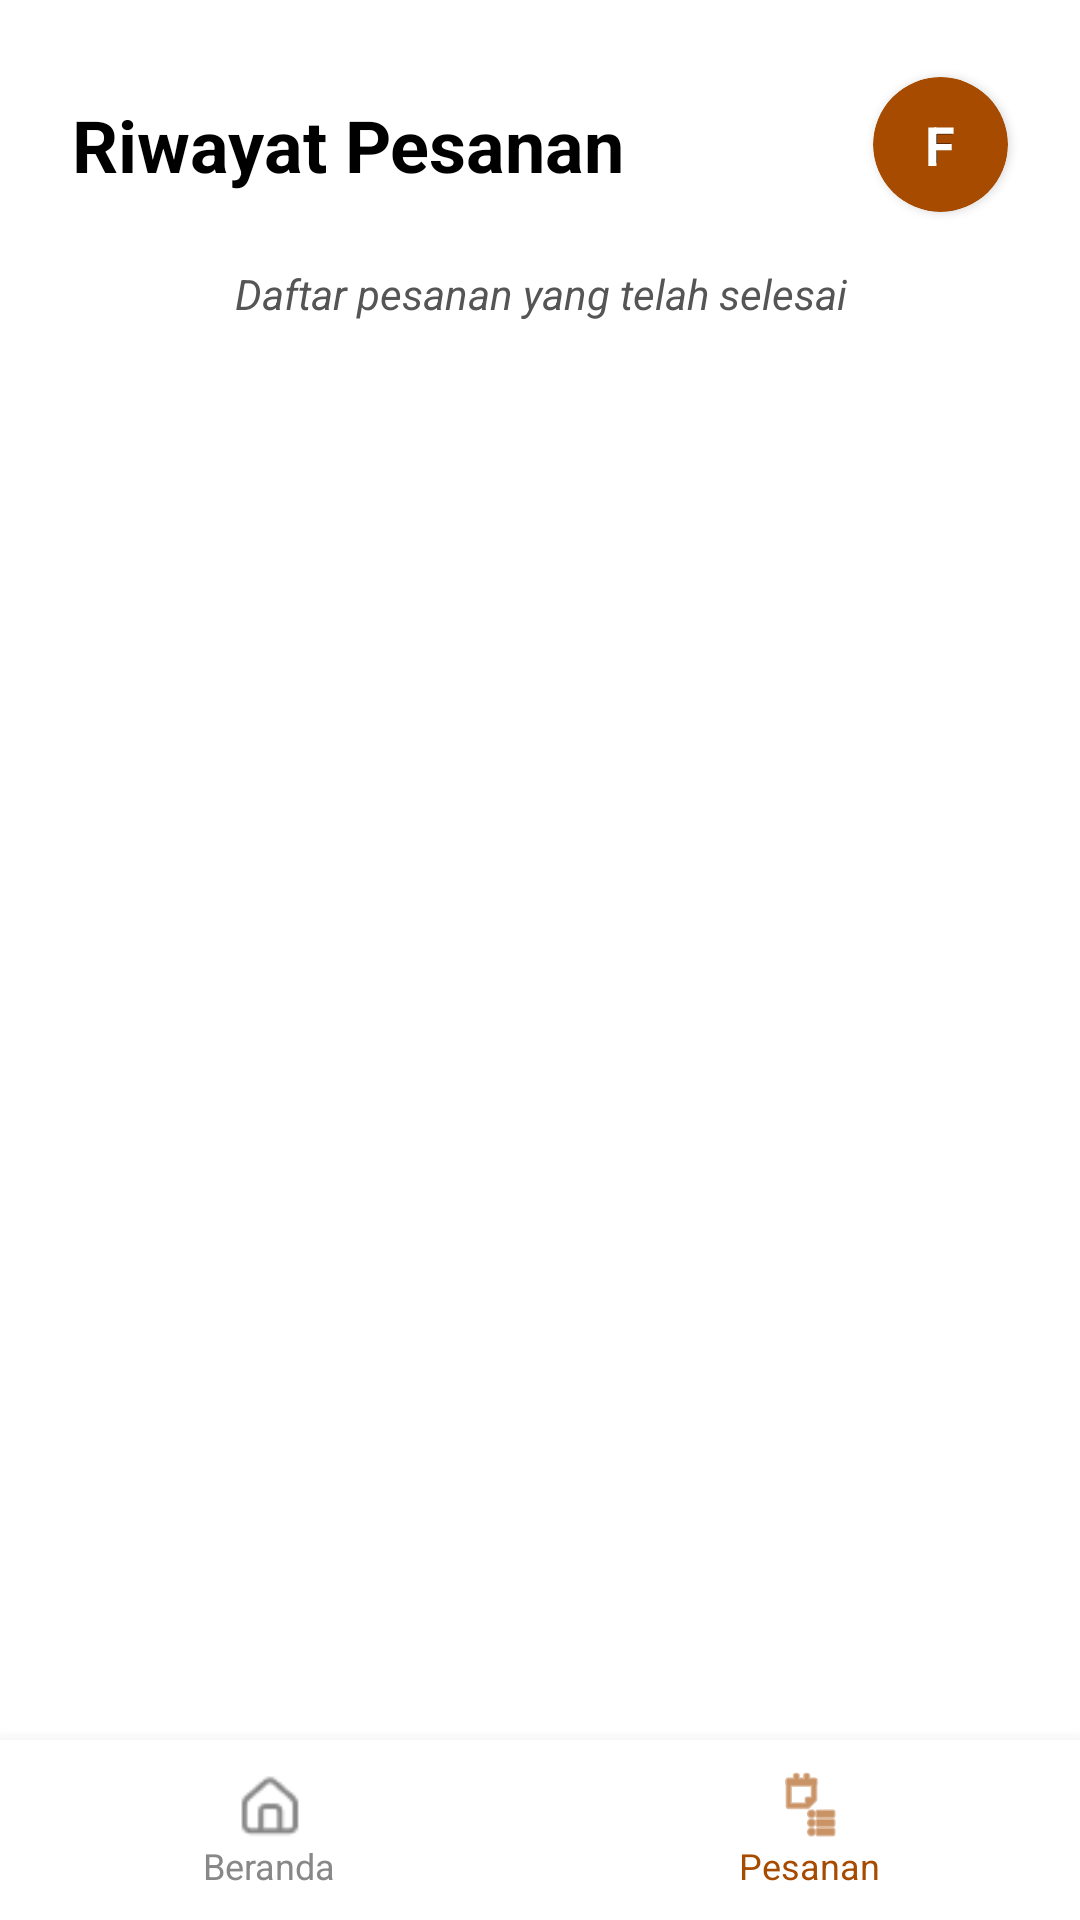

Icon bounding boxes for this 1080 x 1920 phone screenshot, format bbox=(x1, y1, x2, y2):
agenda: bbox=(785, 1773, 836, 1837)
